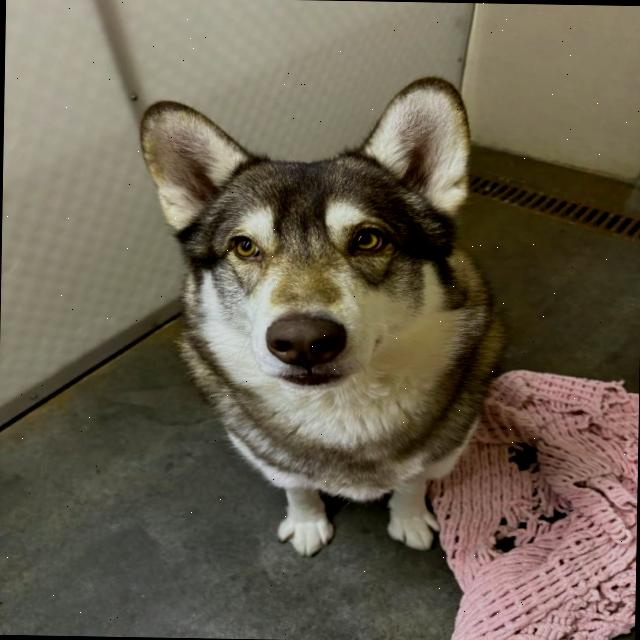siberian_husky_dog: (126, 59, 487, 408)
